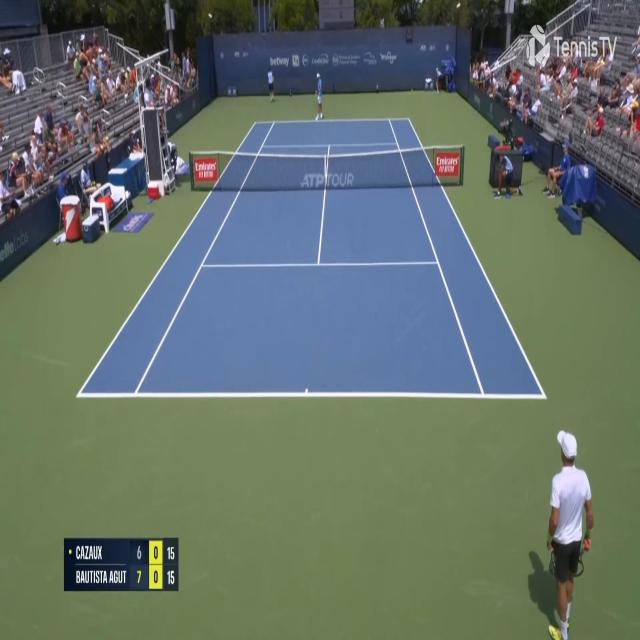tennis-player: (528, 426, 596, 639), (313, 70, 325, 122)
